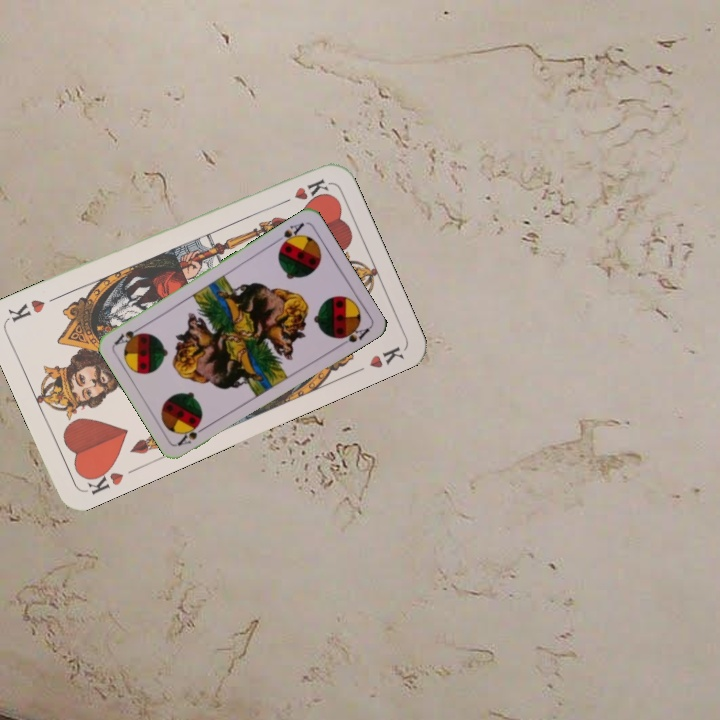HK: (273, 174, 331, 209), (79, 460, 126, 497)
SA: (271, 218, 307, 251), (174, 420, 211, 449)
